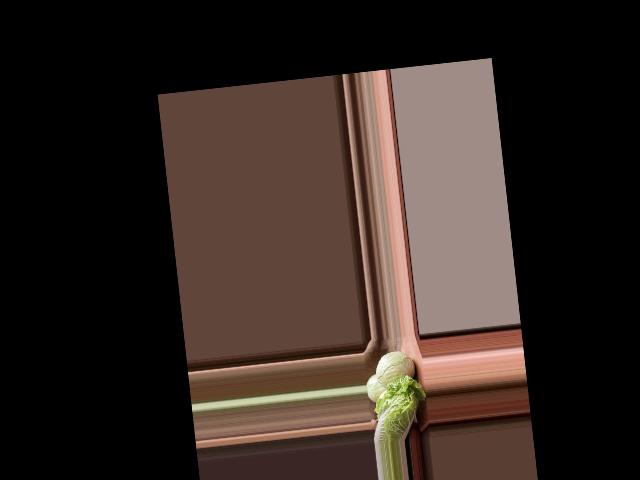lettuce: (369, 373, 431, 442)
